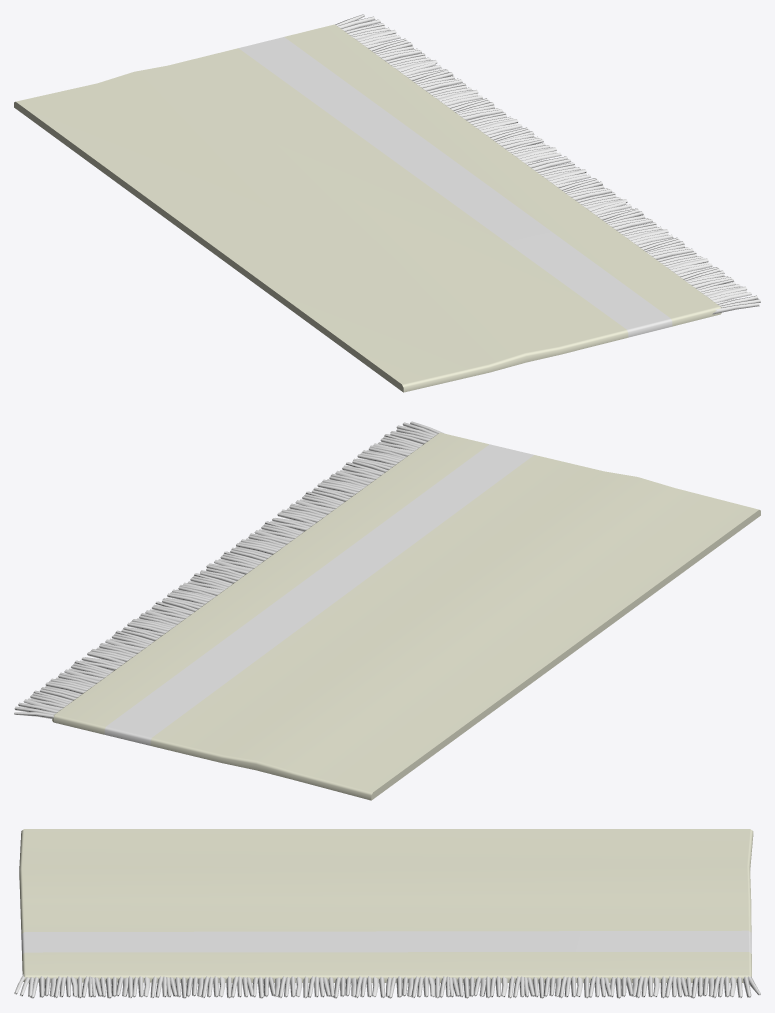
Rendered from Carpet_Right.fbx.
3 views of the same model, one above another, from view 1: azimuth 30°, elevation 25°; view 2: azimuth 150°, elevation 25°; view 3: azimuth 270°, elevation 25° (orthographic). The views are drawn at different scales.
Visible parts, largest first — view 1: Carpet_Right; view 2: Carpet_Right; view 3: Carpet_Right.
Boxes of the visible parts, x1,y1,x2,y2 form: Carpet_Right: (14,14,760,392); Carpet_Right: (14,421,760,800); Carpet_Right: (14,829,760,998).
Size of the model in its own units: 1.65 by 0.0412 by 3.16.
